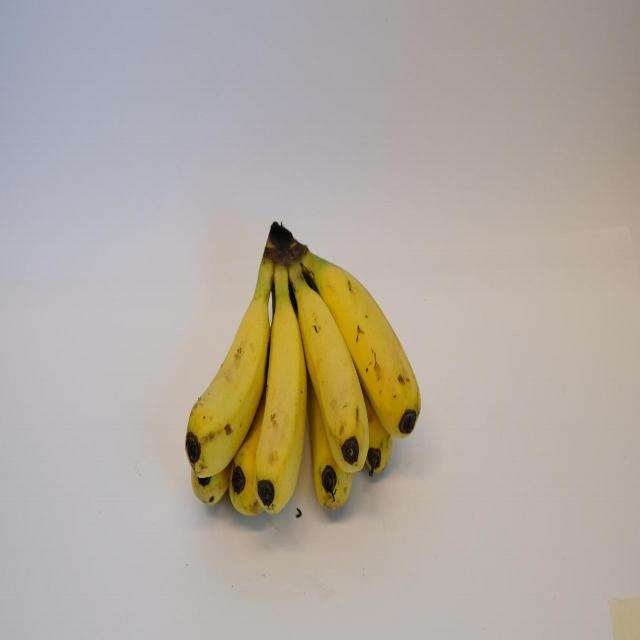banana: (315, 251, 428, 439), (182, 287, 269, 485), (291, 274, 371, 471), (254, 295, 314, 514)
